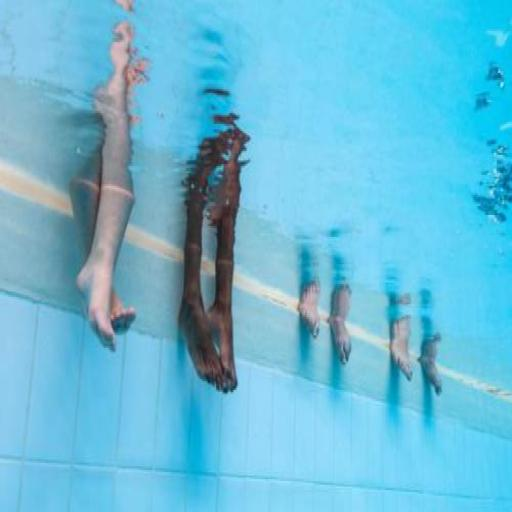swimming: (68, 13, 148, 355), (175, 108, 252, 397), (294, 220, 356, 370)
